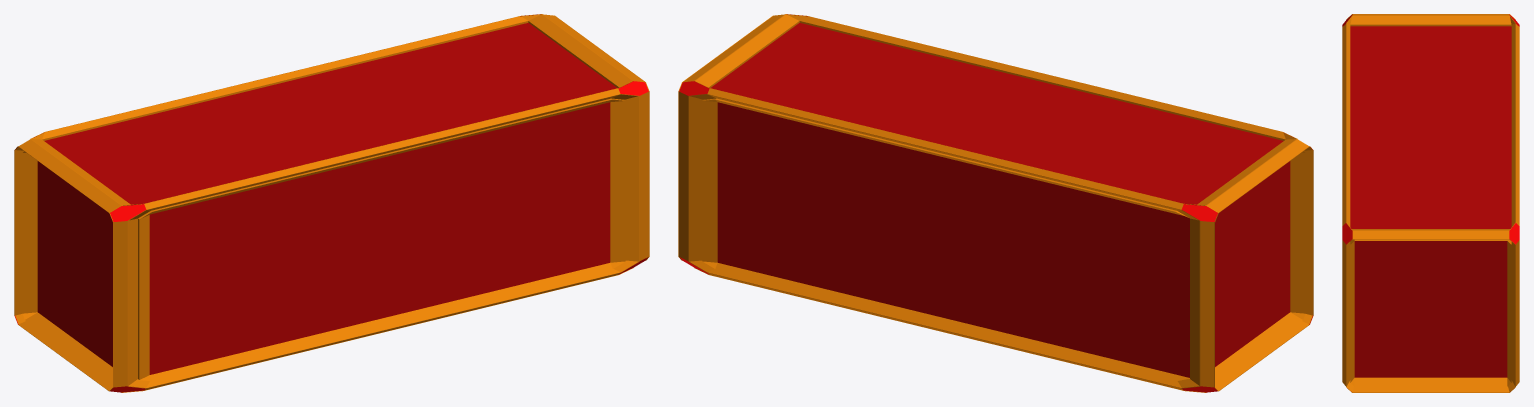
Rendered from Box Long.fbx.
The picture shows the model from 3 angles, left to right: view 1: azimuth 30°, elevation 25°; view 2: azimuth 150°, elevation 25°; view 3: azimuth 270°, elevation 25°; orthographic projection. The views are drawn at different scales.
Visible parts, largest first — view 1: Cube; view 2: Cube; view 3: Cube.
Part boxes in pixels (x1,y1,x2,y2): Cube: [14, 14, 649, 392]; Cube: [678, 14, 1313, 392]; Cube: [1342, 14, 1519, 392].
Bounding box in the file's own units: 600 × 200 × 200.
